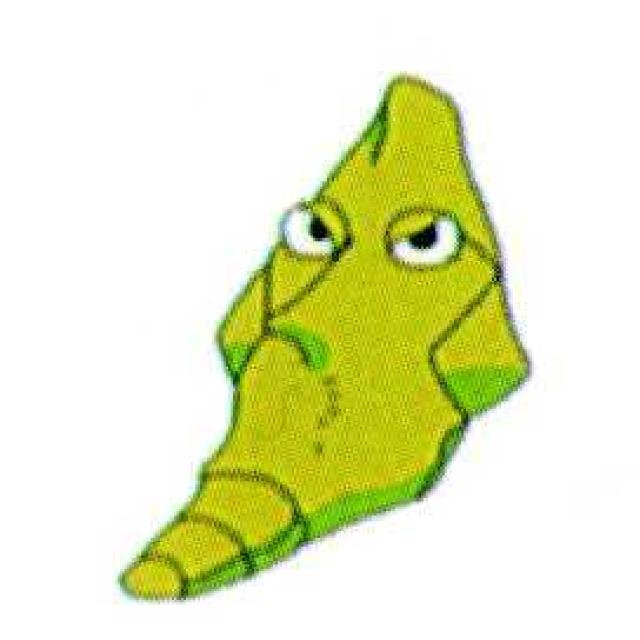Metapod: (146, 70, 553, 632)
